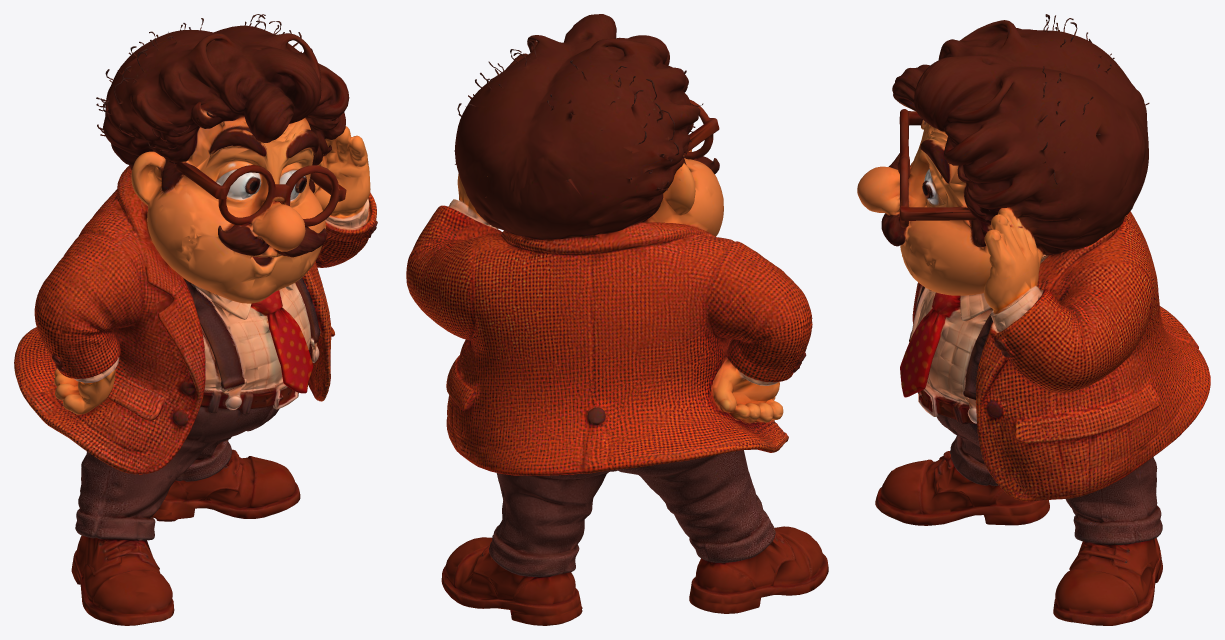
Rendered from escutando.glb.
3 views of the same model, side by side, from view 1: azimuth 30°, elevation 25°; view 2: azimuth 150°, elevation 25°; view 3: azimuth 270°, elevation 25° (orthographic). The views are drawn at different scales.
Parts seen in each view (by area): view 1: tripo_node_74a97a98-2ccc-4fac-a8c8-8e39edf98da5; view 2: tripo_node_74a97a98-2ccc-4fac-a8c8-8e39edf98da5; view 3: tripo_node_74a97a98-2ccc-4fac-a8c8-8e39edf98da5.
Part boxes in pixels (left/top/right/bottom): tripo_node_74a97a98-2ccc-4fac-a8c8-8e39edf98da5: left=14, top=14, right=377, bottom=625; tripo_node_74a97a98-2ccc-4fac-a8c8-8e39edf98da5: left=406, top=14, right=828, bottom=625; tripo_node_74a97a98-2ccc-4fac-a8c8-8e39edf98da5: left=857, top=14, right=1210, bottom=625.
Bounding box in the file's own units: 0.6908 × 0.9798 × 0.5763.
Materials: 1 (1 with a texture image).
